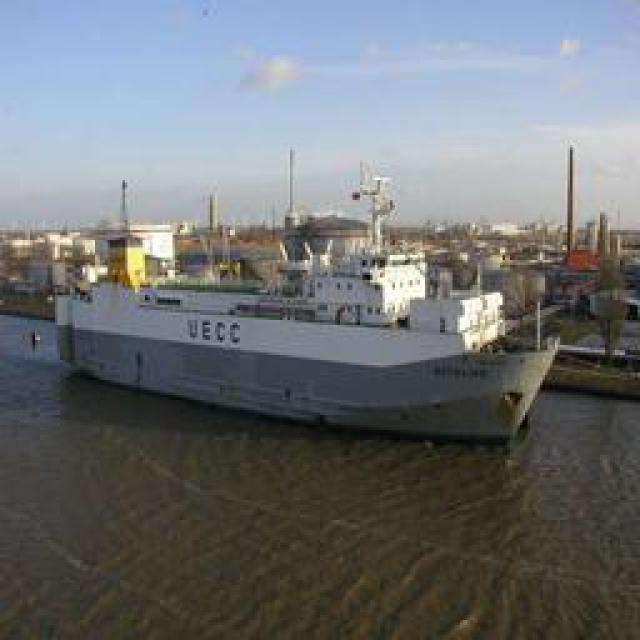Ship: (56, 161, 561, 446)
